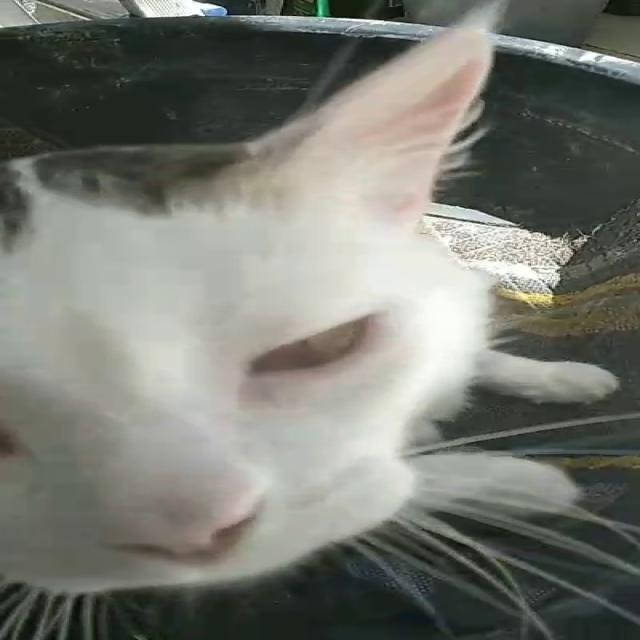Simba: (1, 7, 628, 639)
